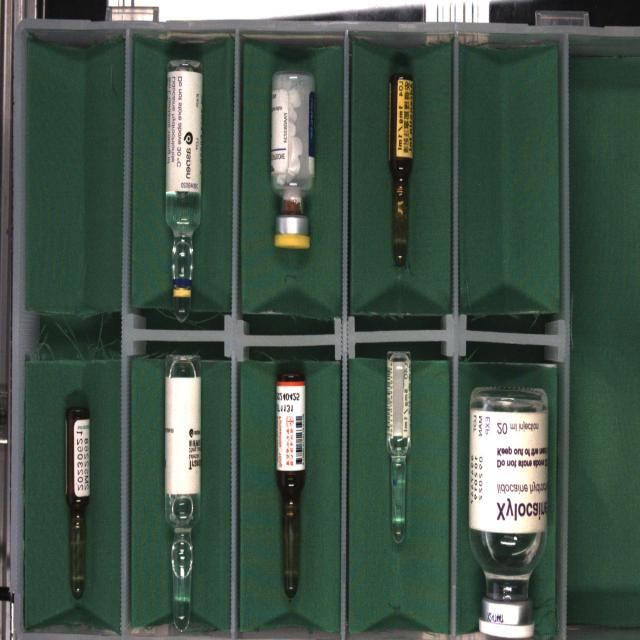Vials: (469, 388, 548, 638), (271, 72, 314, 250)
